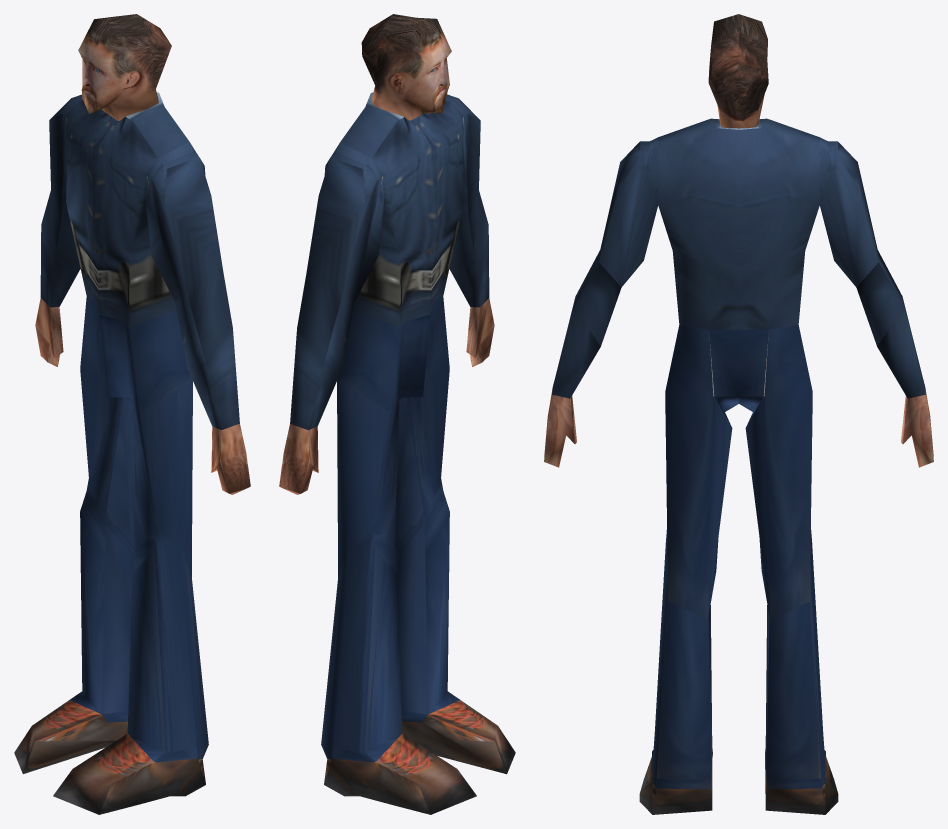
The model's file is man10.fbx.
3 renders of one model, left to right at view 1: azimuth 30°, elevation 25°; view 2: azimuth 150°, elevation 25°; view 3: azimuth 270°, elevation 25°, orthographic. The views are drawn at different scales.
Visible parts, largest first — view 1: man10; view 2: man10; view 3: man10.
Part boxes in pixels (<box>): man10: <box>14,14,250,814</box>; man10: <box>279,14,515,814</box>; man10: <box>544,14,933,814</box>.
Size of the model in its own units: 34.73 by 186 by 84.77.
2 materials, 2 textured.
